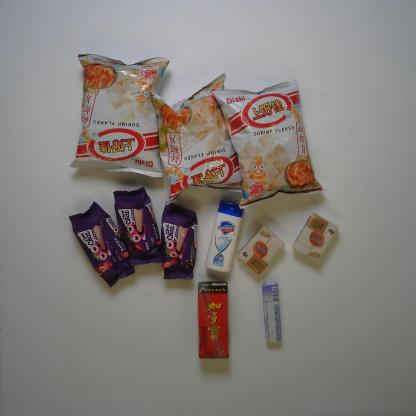Candy: (262, 280, 283, 344)
Dessert: (69, 201, 136, 289), (113, 186, 162, 267), (160, 200, 198, 280)
Drink: (198, 280, 230, 359)
Personal Hygiene: (204, 198, 244, 273)
Puffed Food: (212, 78, 326, 210), (68, 52, 170, 179), (150, 72, 245, 206)
Tissue: (292, 211, 340, 265), (236, 226, 286, 276)
